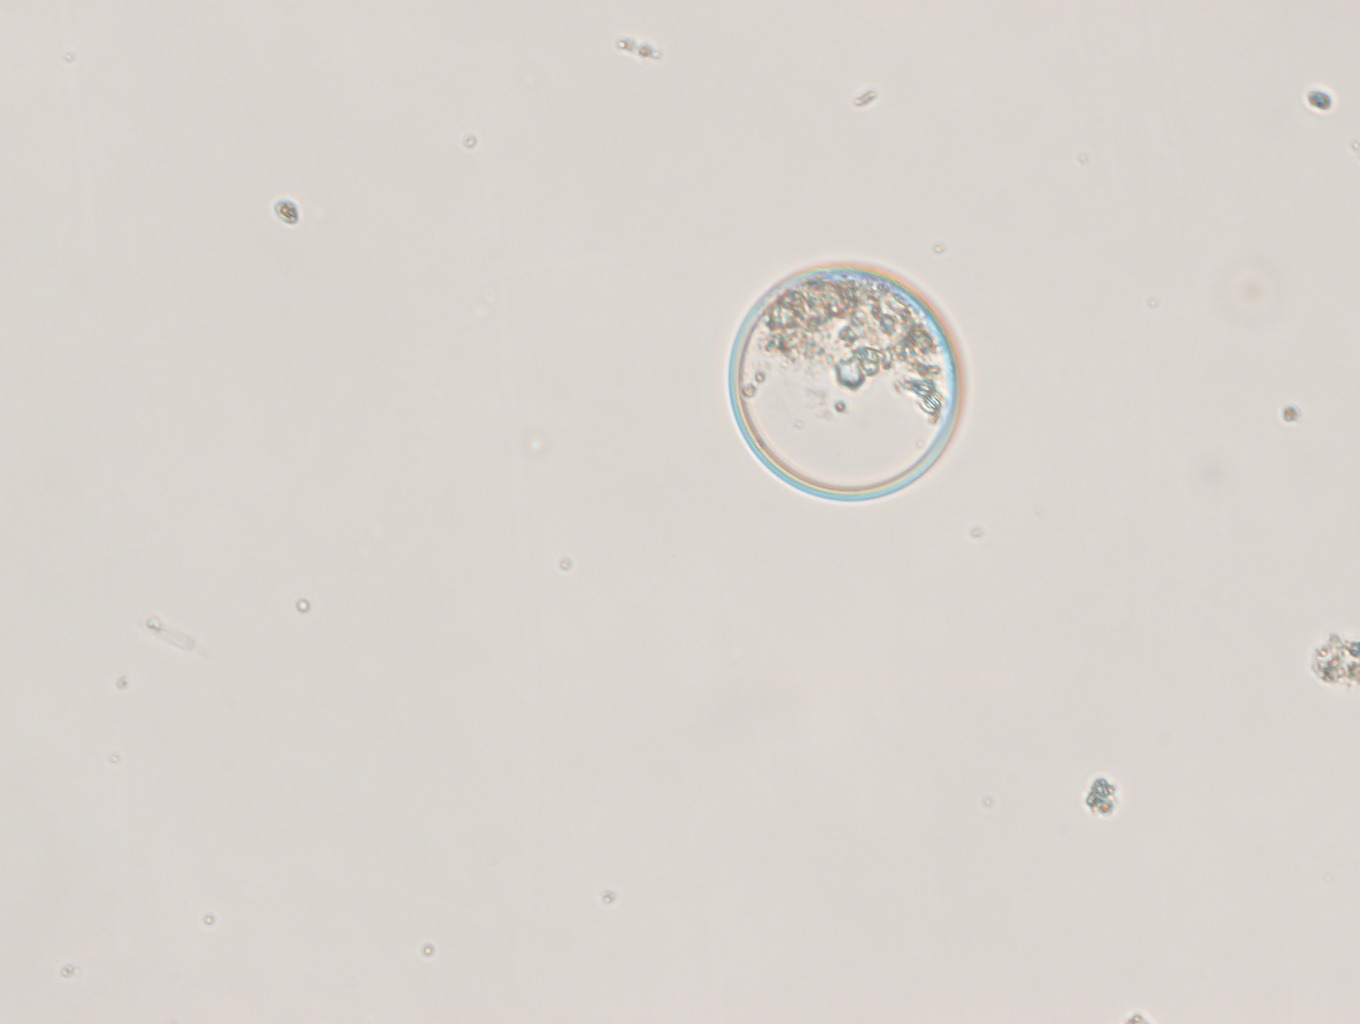coscinodiscus: (722, 256, 970, 508)
